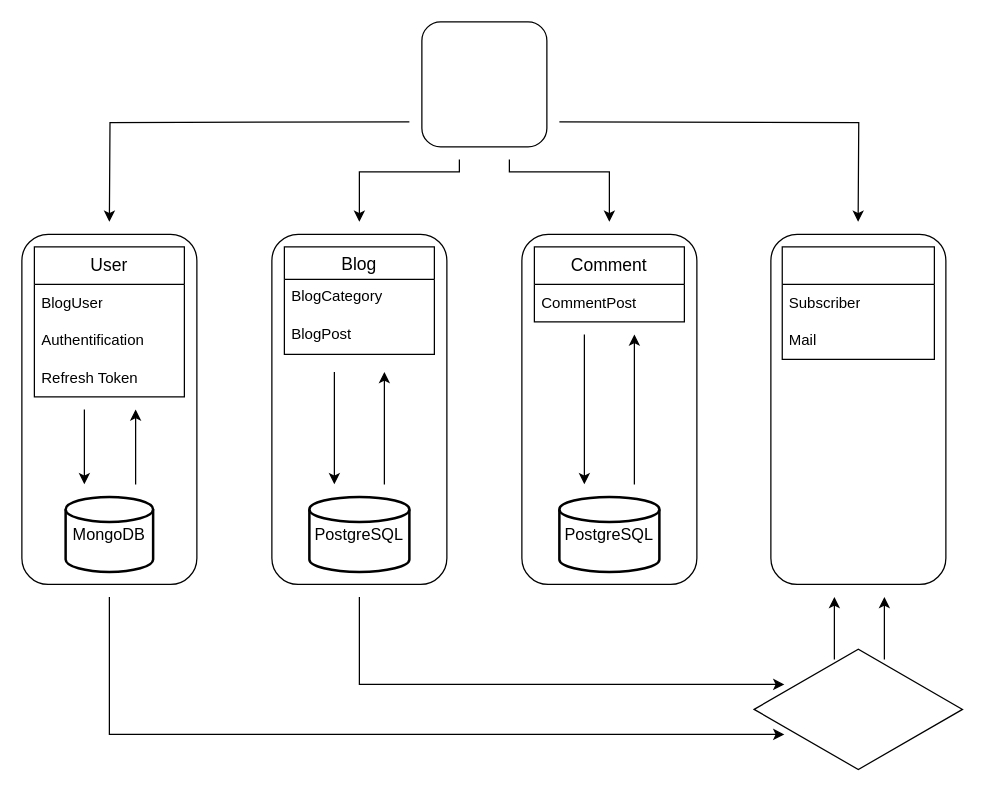
Image size: 985x794. Some labels were removed from this diagram. Here are the shapes that lost their labels. From the top down, the box of each, then its label:
(421, 21, 547, 147): API
(781, 246, 934, 359): Notify
(753, 646, 962, 772): RabbitMQ
